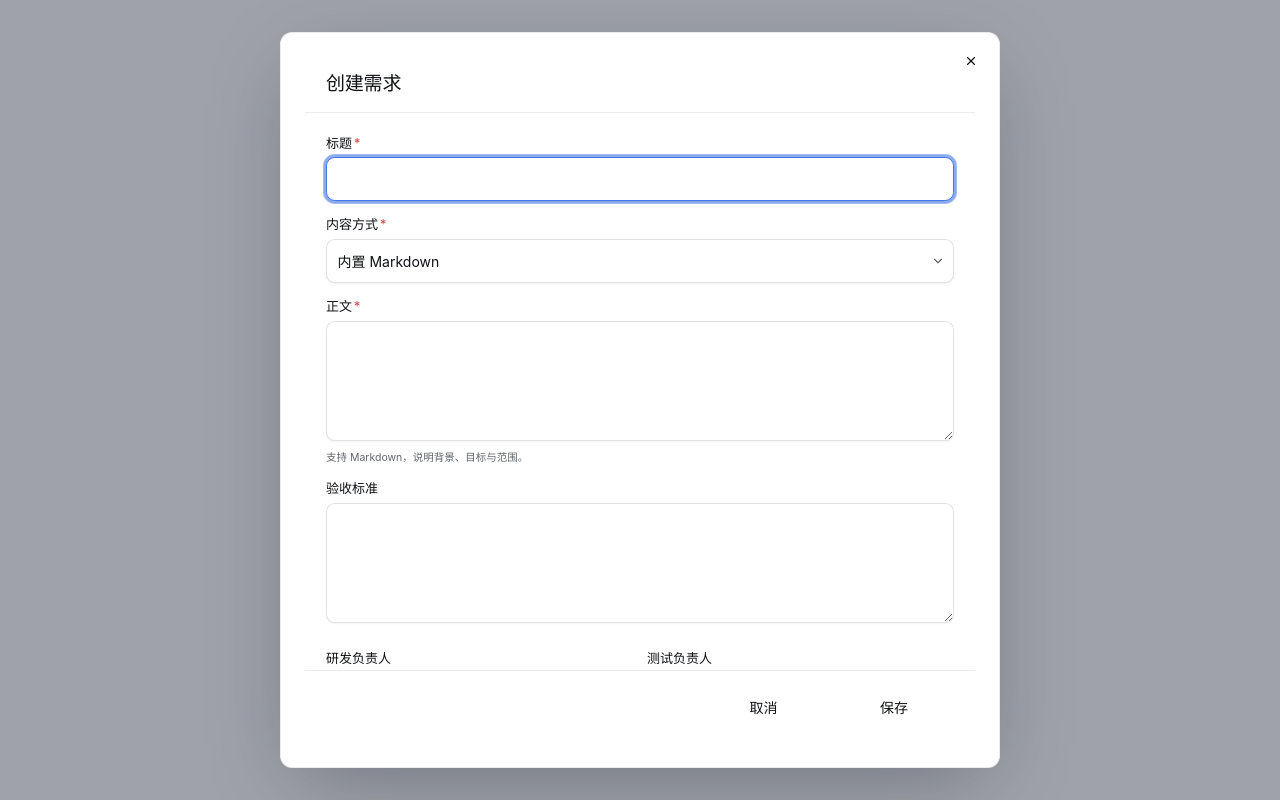
Test case: RequirementForm › 校验失败时展示字段级错误，滚动并聚焦首个错误字段
The image size is (1280, 800).
Click the button "保存" at (894, 707), box x1=834 y1=685 x2=954 y2=729
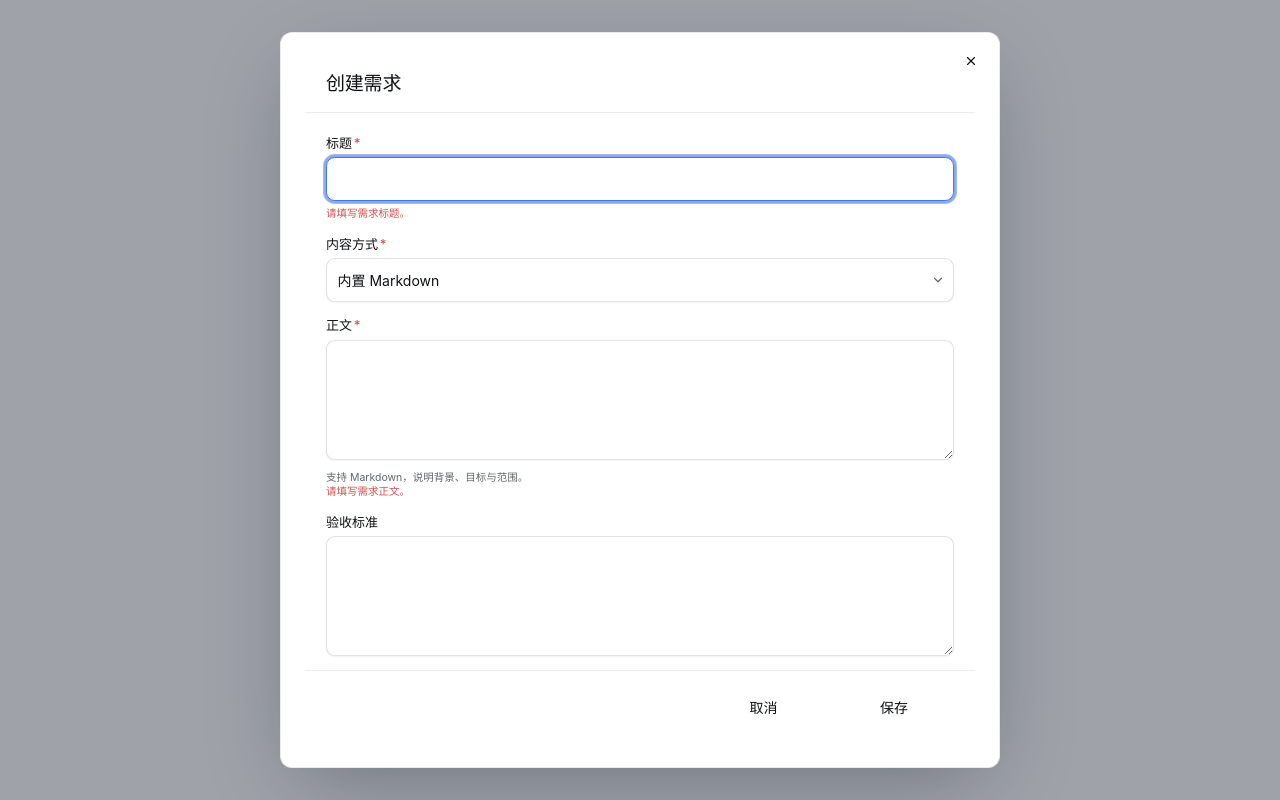
Check: the message "请填写需求标题。" is shown, box x1=326 y1=207 x2=410 y2=220
